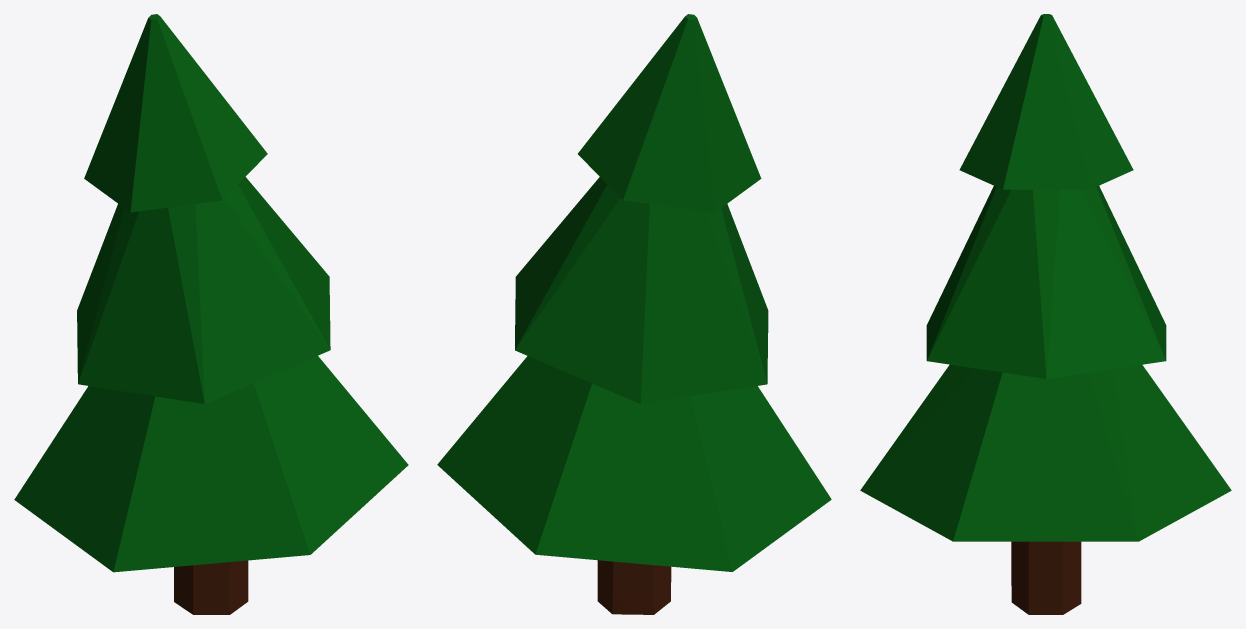
The model's file is Pino1.FBX.
3 views of the same model, side by side, from view 1: azimuth 30°, elevation 25°; view 2: azimuth 150°, elevation 25°; view 3: azimuth 270°, elevation 25° (orthographic). The views are drawn at different scales.
Visible parts, largest first — view 1: Pino; view 2: Pino; view 3: Pino.
Part boxes in pixels (bbox=[...]): Pino: bbox=[14, 14, 408, 614]; Pino: bbox=[437, 14, 831, 614]; Pino: bbox=[860, 14, 1231, 614].
Bounding box in the file's own units: 168 × 325 × 195.
